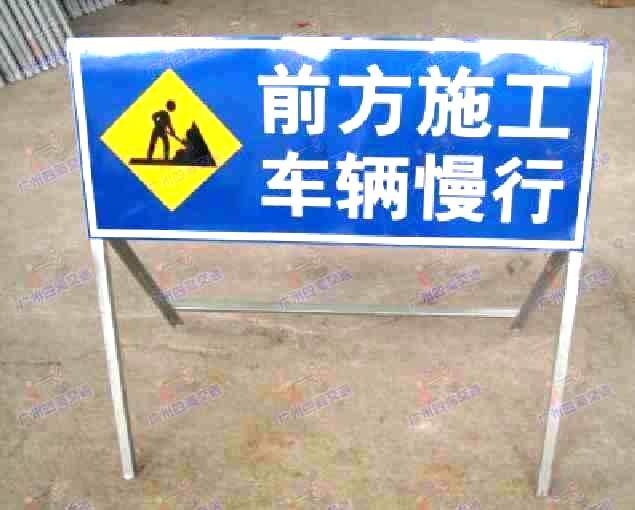sign: (71, 40, 605, 252)
